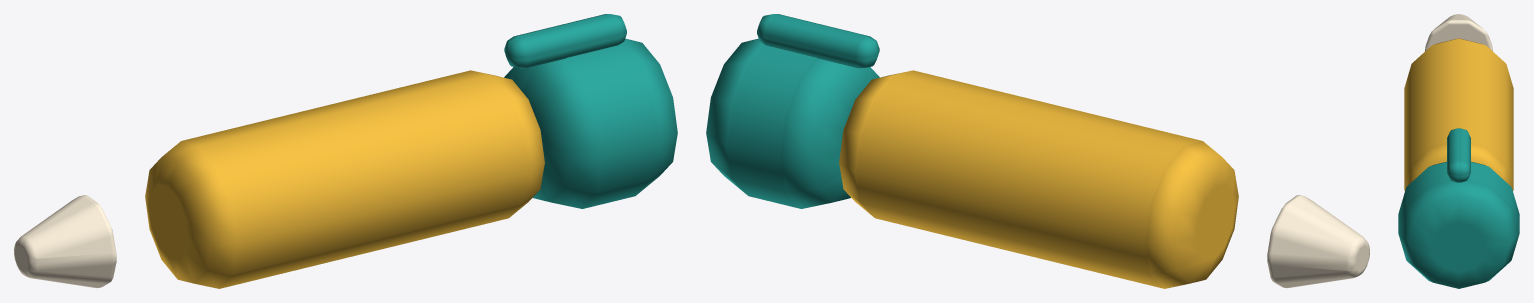
Rendered from highlighter_pen.glb.
3 renders of one model, left to right at view 1: azimuth 30°, elevation 25°; view 2: azimuth 150°, elevation 25°; view 3: azimuth 270°, elevation 25°, orthographic. The views are drawn at different scales.
Parts seen in each view (by area): view 1: Body.001, Cap, Tip, Clip; view 2: Body.001, Cap, Tip, Clip; view 3: Body.001, Cap, Tip, Clip.
Boxes of the visible parts, x1,y1,x2,y2 form: Body.001: (145,70,544,288); Cap: (504,38,677,208); Tip: (14,195,116,288); Clip: (504,14,626,68); Body.001: (839,70,1238,288); Cap: (706,38,879,208); Tip: (1267,195,1369,288); Clip: (757,14,879,68); Body.001: (1404,38,1513,190); Cap: (1398,161,1519,288); Tip: (1425,14,1492,50); Clip: (1447,128,1470,182).
Size of the model in its own units: 0.43 by 0.115 by 0.1.
